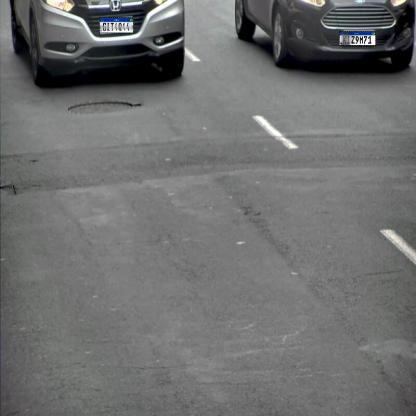PlacaM: (99, 18, 134, 34), (339, 31, 376, 46)
